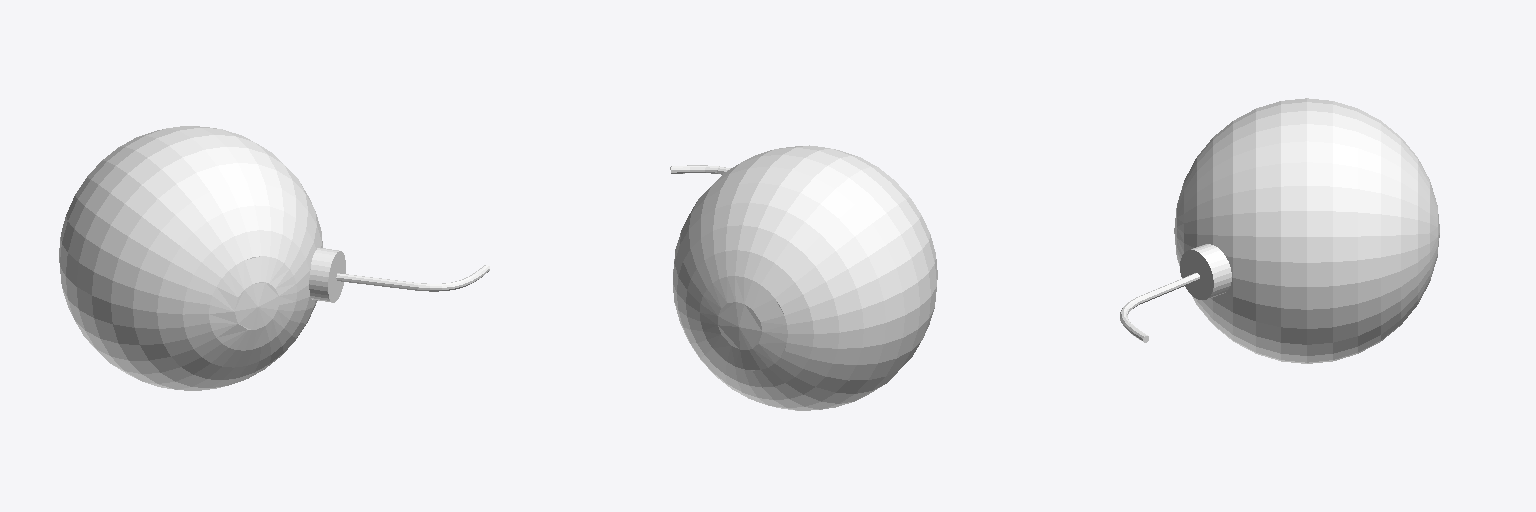
Rendered from bomb.obj.
3 renders of one model, left to right at view 1: azimuth 30°, elevation 25°; view 2: azimuth 150°, elevation 25°; view 3: azimuth 270°, elevation 25°, orthographic.
Visible parts, largest first — view 1: CherryBomb; view 2: CherryBomb; view 3: CherryBomb.
Boxes of the visible parts, x1,y1,x2,y2 form: CherryBomb: [59, 126, 489, 390]; CherryBomb: [670, 145, 937, 410]; CherryBomb: [1120, 98, 1439, 363].
Bounding box in the file's own units: 2.88 × 2 × 2.41.